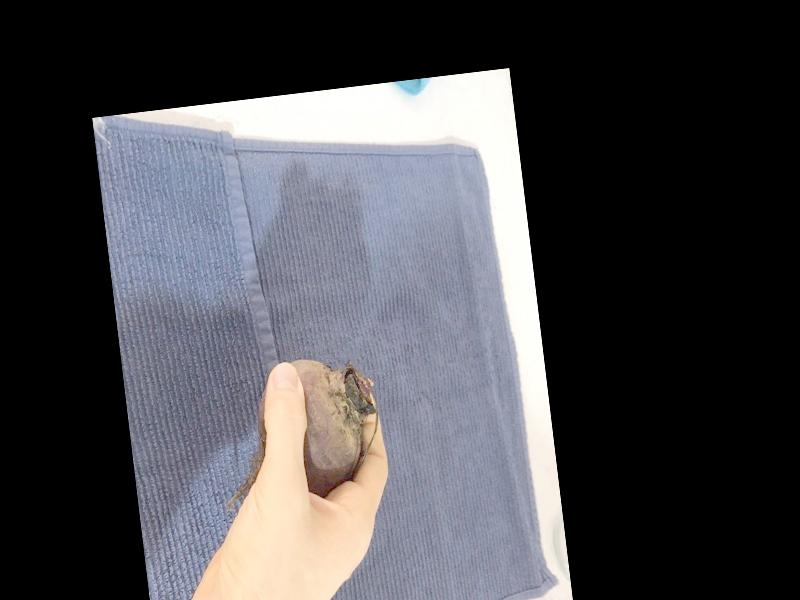Beet: (208, 350, 385, 505)
